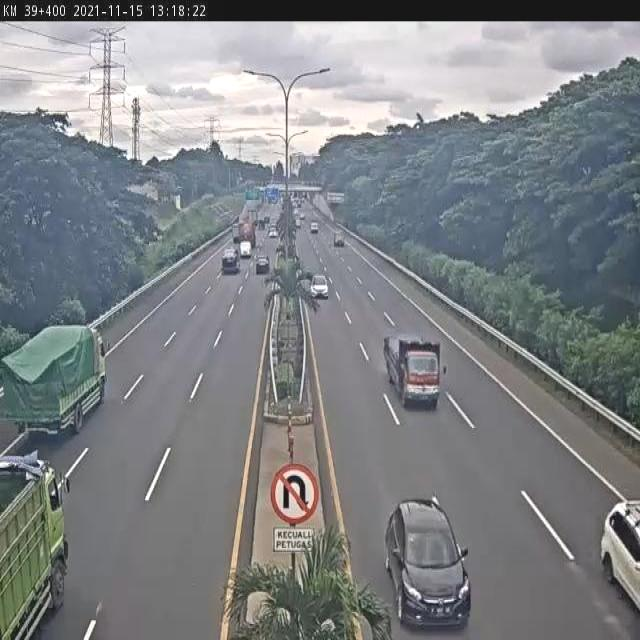Car: (382, 496, 471, 630), (601, 489, 640, 622), (309, 274, 330, 299), (256, 255, 271, 274), (333, 230, 346, 247), (310, 220, 320, 234)
Truck: (0, 447, 76, 639), (0, 323, 109, 436), (379, 333, 452, 411), (221, 247, 242, 276), (238, 220, 256, 250)
